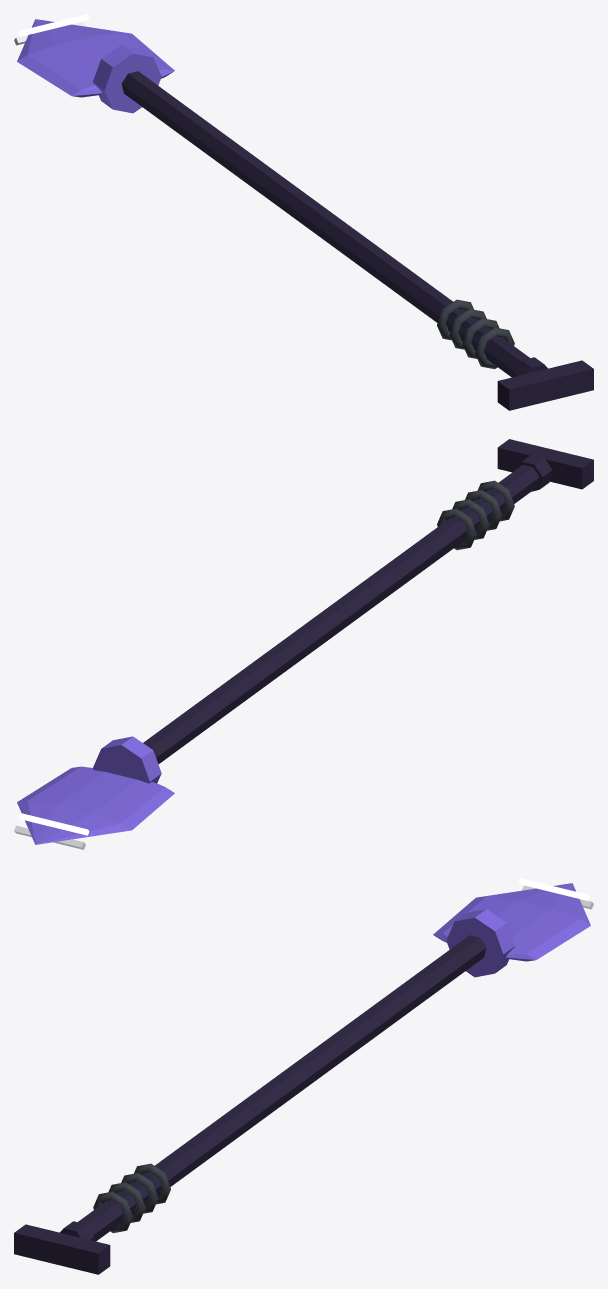
File: Tool_Shovel_Starlight.fbx
The picture shows the model from 3 angles, top to bottom: view 1: azimuth 30°, elevation 25°; view 2: azimuth 150°, elevation 25°; view 3: azimuth 330°, elevation 25°; orthographic projection.
Visible parts, largest first — view 1: Tool_Shovel_Starlight; view 2: Tool_Shovel_Starlight; view 3: Tool_Shovel_Starlight.
Part boxes in pixels (x1,y1,x2,y2): Tool_Shovel_Starlight: [14, 14, 593, 410]; Tool_Shovel_Starlight: [14, 439, 593, 849]; Tool_Shovel_Starlight: [14, 878, 593, 1274].
Bounding box in the file's own units: 0.068 × 0.0338 × 0.528.
